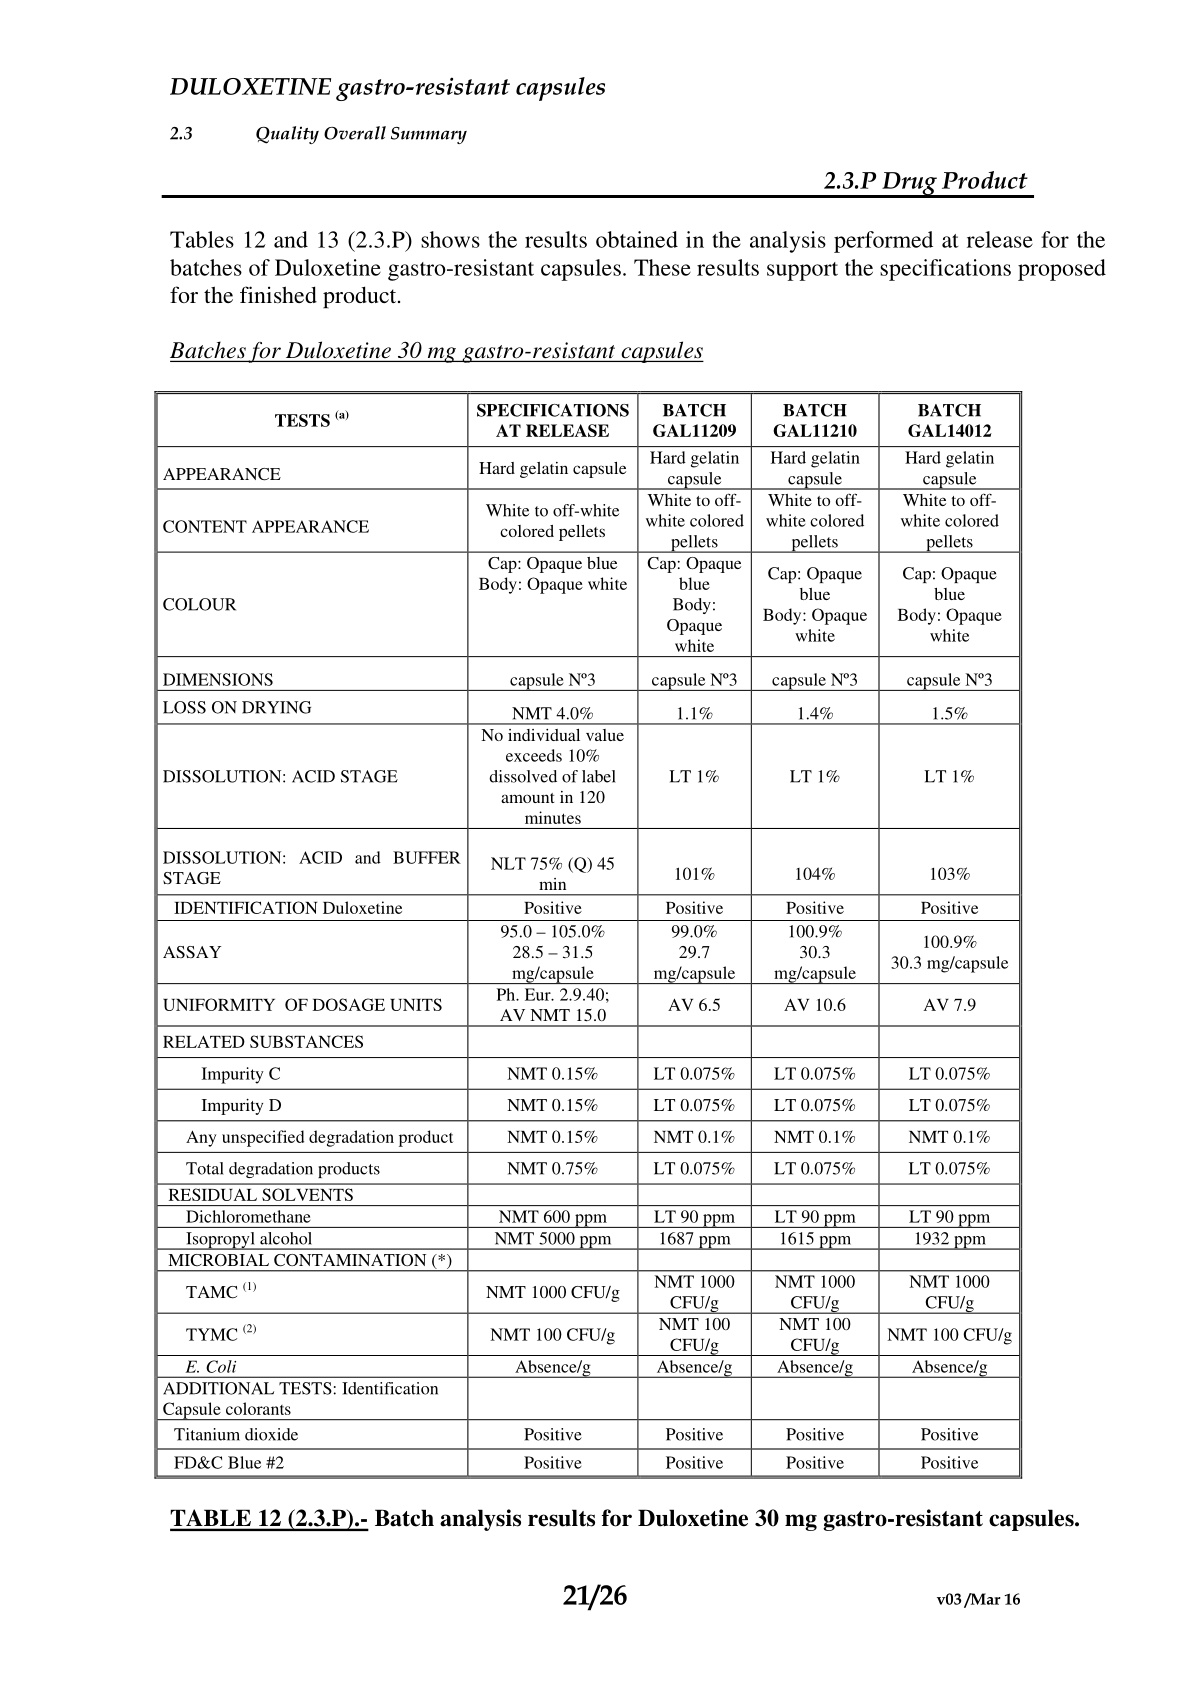full_lined: (152, 389, 1023, 1480)
